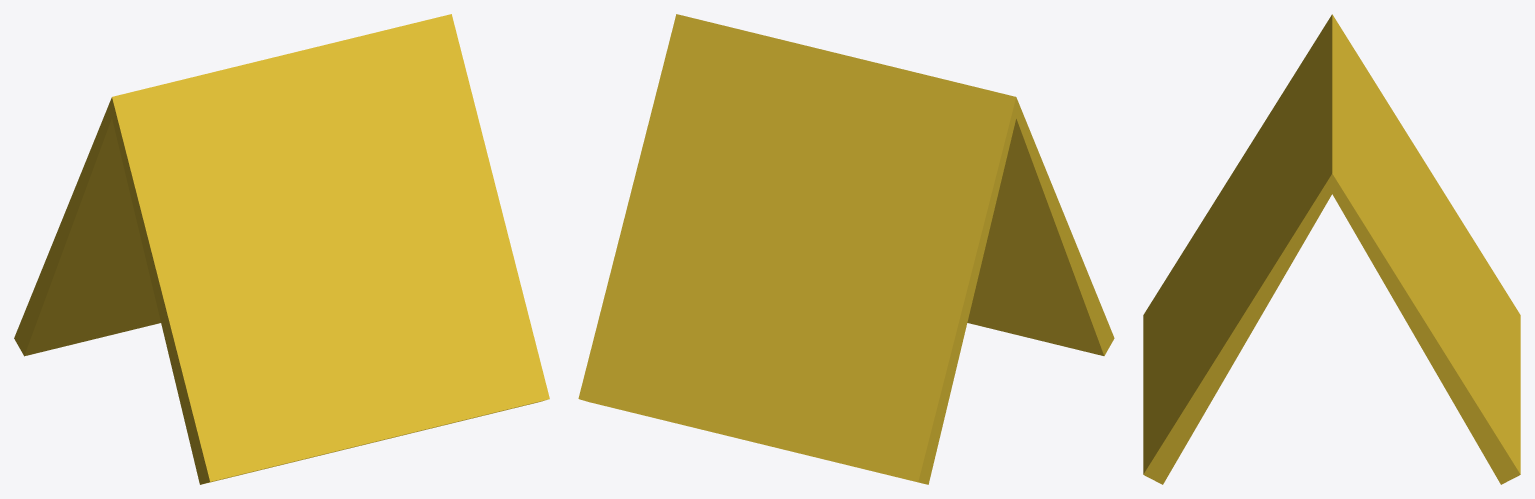
Rendered from Price Tag.fbx.
3 views of the same model, side by side, from view 1: azimuth 30°, elevation 25°; view 2: azimuth 150°, elevation 25°; view 3: azimuth 270°, elevation 25° (orthographic). The views are drawn at different scales.
Parts seen in each view (by area): view 1: Prize Price; view 2: Prize Price; view 3: Prize Price.
Part boxes in pixels (box(x1,y1,x2,y2)): Prize Price: box(14, 14, 549, 484); Prize Price: box(578, 14, 1114, 484); Prize Price: box(1143, 14, 1520, 484).
Bounding box in the file's own units: 1860 × 1693 × 1860.
